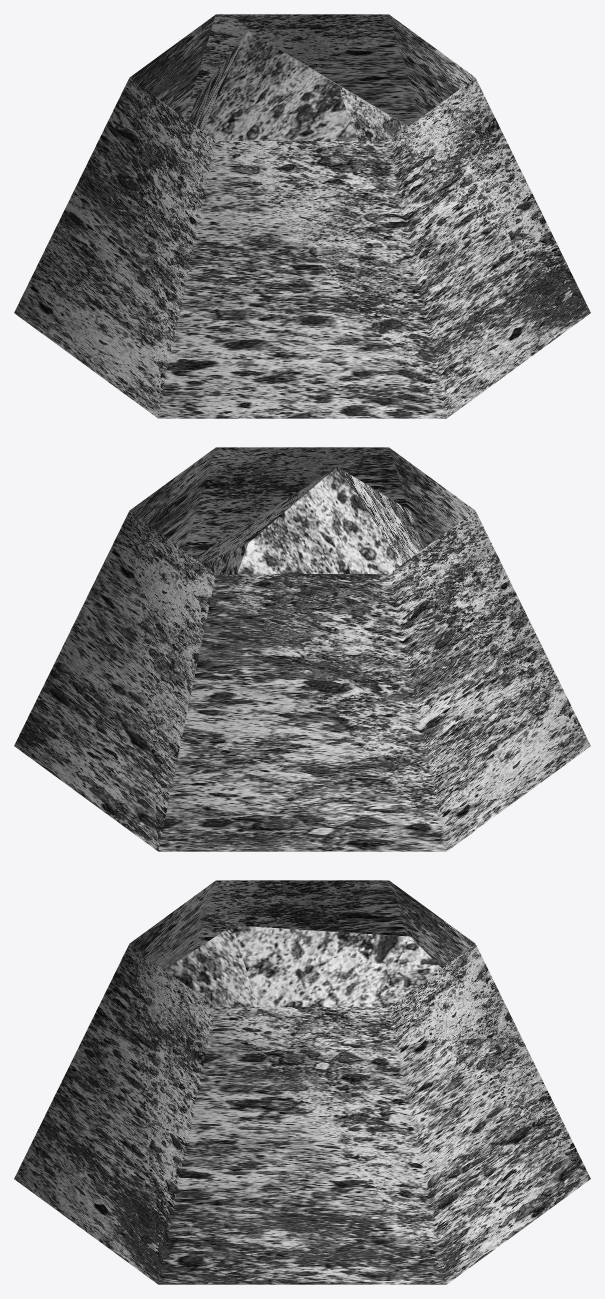
Rendered from zeepok.fbx.
The picture shows the model from 3 angles, top to bottom: view 1: azimuth 30°, elevation 25°; view 2: azimuth 150°, elevation 25°; view 3: azimuth 270°, elevation 25°; orthographic projection.
Visible parts, largest first — view 1: Cylinder.001; view 2: Cylinder.001; view 3: Cylinder.001.
Part boxes in pixels (x1,y1,x2,y2): Cylinder.001: [14, 14, 590, 418]; Cylinder.001: [14, 447, 590, 851]; Cylinder.001: [14, 880, 590, 1284].
Bounding box in the file's own units: 173 × 97.03 × 200.
